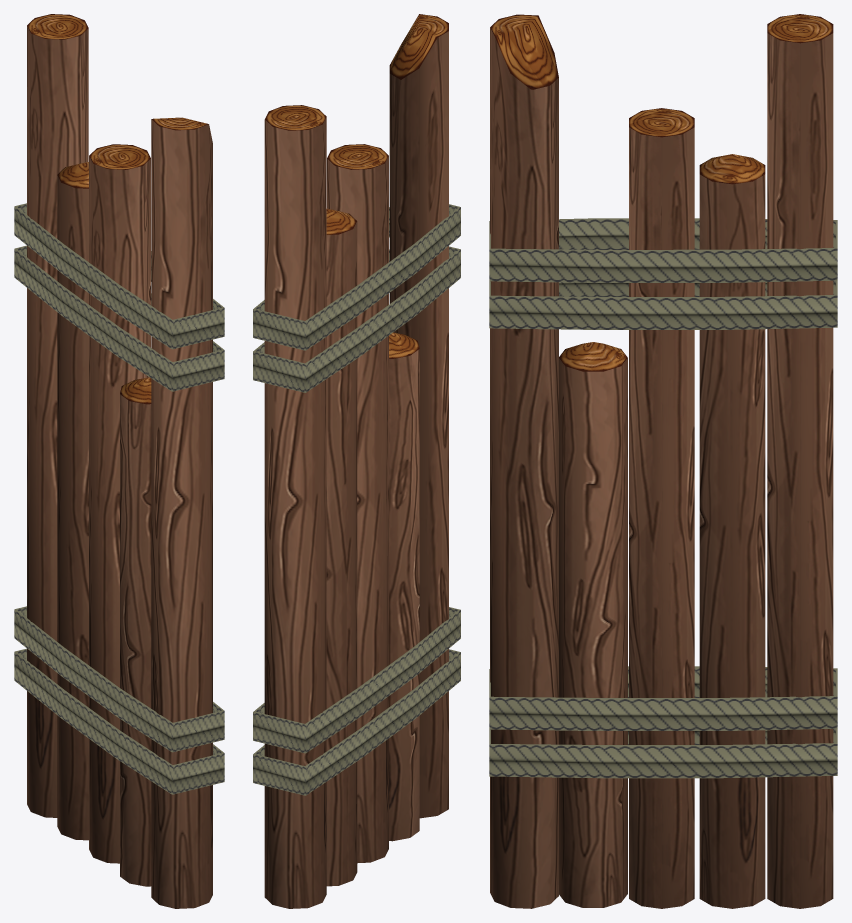
File: Fence_5.fbx
3 renders of one model, left to right at view 1: azimuth 30°, elevation 25°; view 2: azimuth 150°, elevation 25°; view 3: azimuth 270°, elevation 25°, orthographic. The views are drawn at different scales.
Parts seen in each view (by area): view 1: Fence_5; view 2: Fence_5; view 3: Fence_5.
Part boxes in pixels (x1,y1,x2,y2): Fence_5: (14, 14, 224, 908); Fence_5: (253, 14, 460, 908); Fence_5: (489, 14, 837, 908).
Bounding box in the file's own units: 0.4494 × 5.52 × 2.01.
